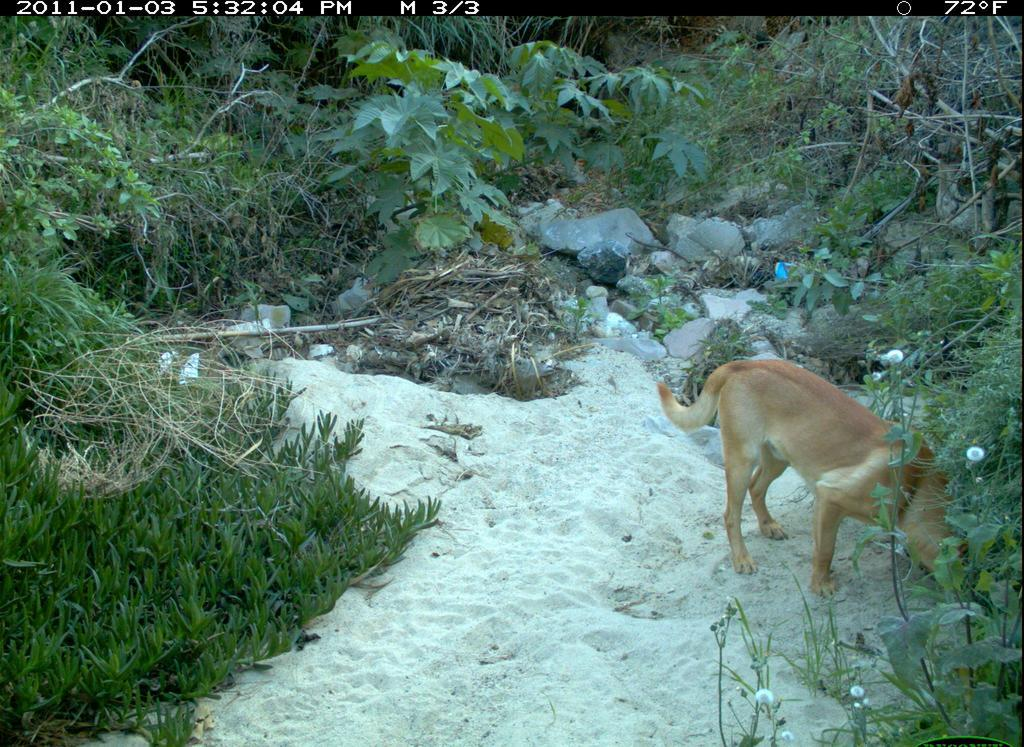dog: (657, 354, 984, 605)
